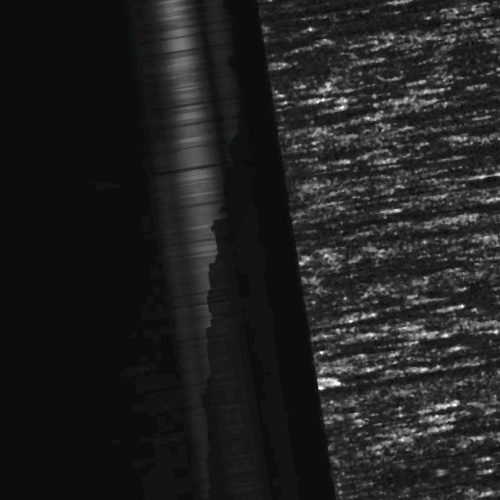object: (427, 395, 500, 408)
shadow: (374, 329, 500, 346), (355, 395, 500, 408), (291, 234, 500, 243), (434, 382, 500, 389), (459, 452, 500, 463)
